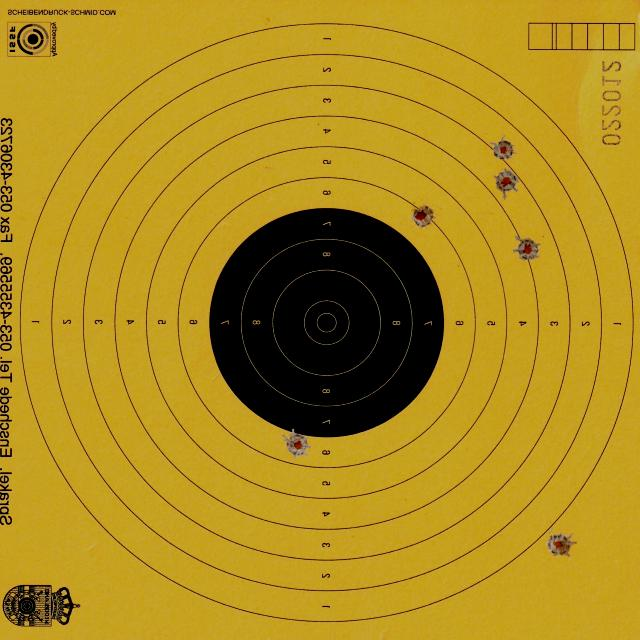0: (546, 526, 578, 560)
3: (493, 168, 521, 199), (490, 134, 518, 160)
4: (512, 236, 541, 261)
6: (410, 203, 436, 230)
7: (282, 428, 313, 458)
Target: (17, 18, 635, 624)
black_contour: (209, 207, 443, 437)
